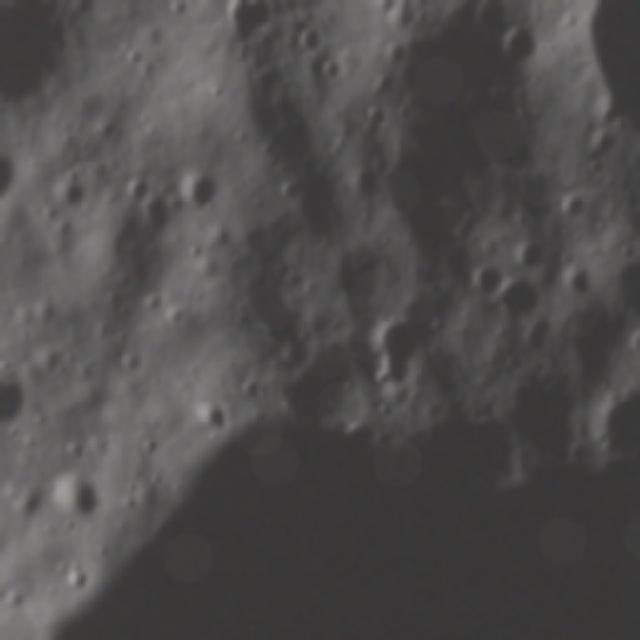crater: (47, 468, 111, 522), (490, 18, 544, 78), (217, 2, 277, 50), (496, 271, 544, 327), (188, 387, 235, 441), (174, 168, 221, 220), (58, 555, 102, 600), (462, 259, 511, 298), (47, 174, 93, 212), (119, 170, 156, 208), (510, 240, 547, 277), (558, 186, 594, 223), (313, 53, 345, 92), (292, 22, 325, 59)
